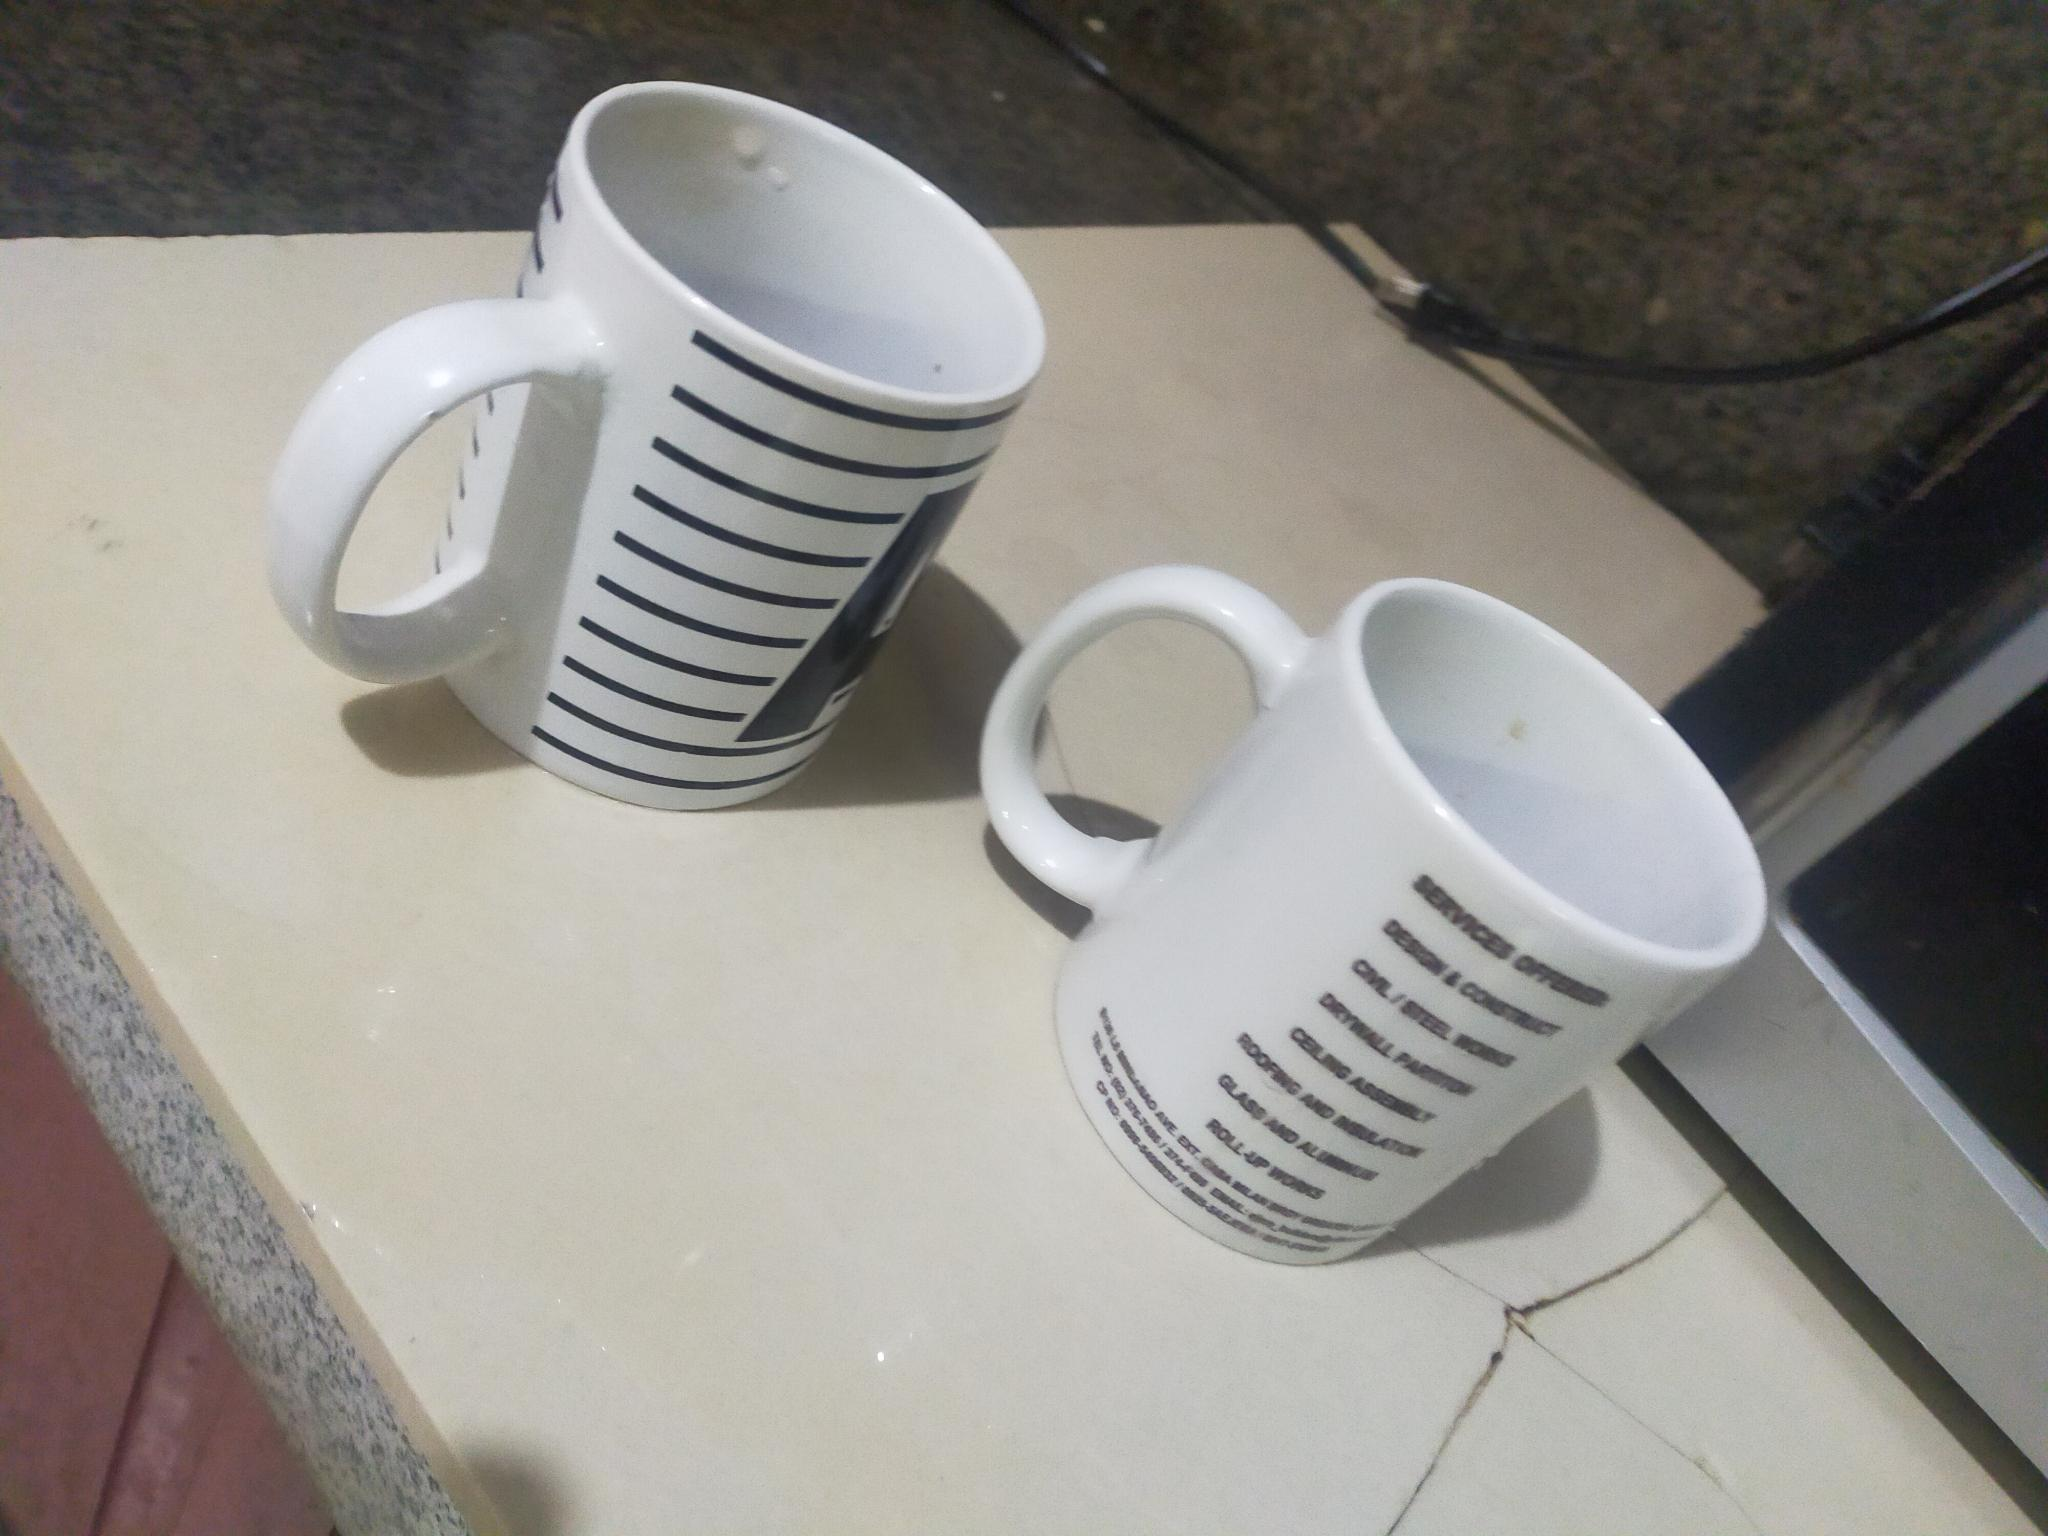Coffee Mug: (271, 84, 1045, 805), (980, 571, 1764, 1262)
